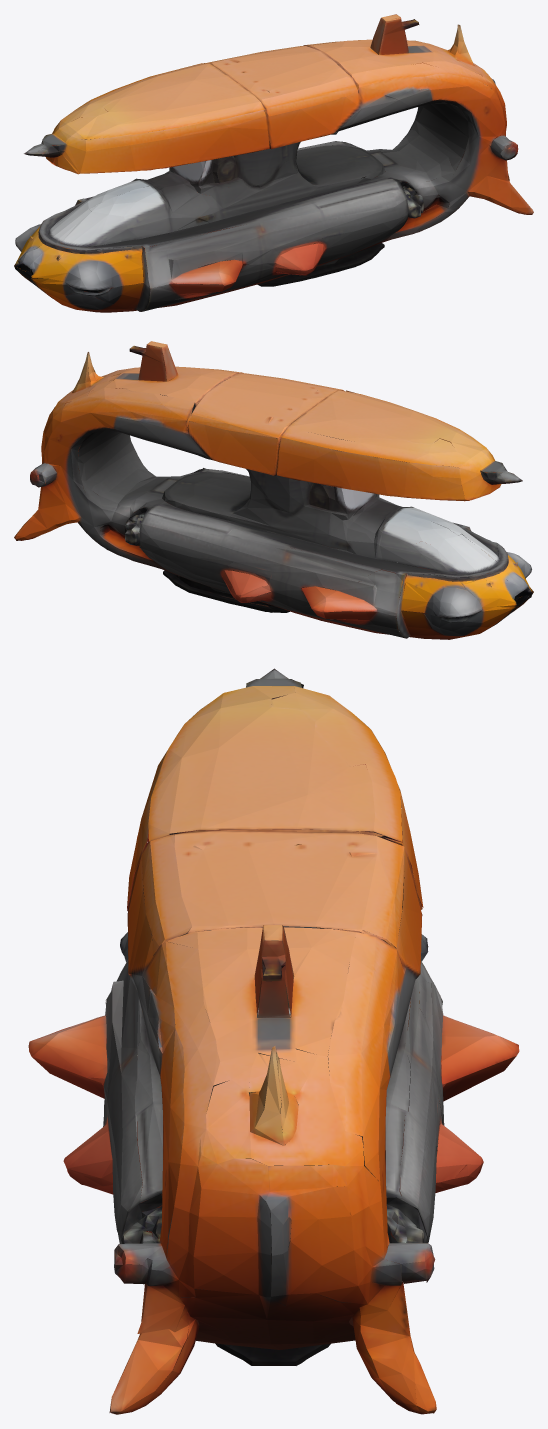
Rendered from sub_scout.fbx.
The picture shows the model from 3 angles, top to bottom: view 1: azimuth 30°, elevation 25°; view 2: azimuth 150°, elevation 25°; view 3: azimuth 270°, elevation 25°; orthographic projection. The views are drawn at different scales.
Parts seen in each view (by area): view 1: sub_scout; view 2: sub_scout; view 3: sub_scout.
Boxes of the visible parts, x1,y1,x2,y2 form: sub_scout: [14, 14, 533, 312]; sub_scout: [14, 341, 533, 639]; sub_scout: [28, 668, 519, 1414].
Bounding box in the file's own units: 3.09 × 1.4 × 1.38.
Materials: 1 (1 with a texture image).
